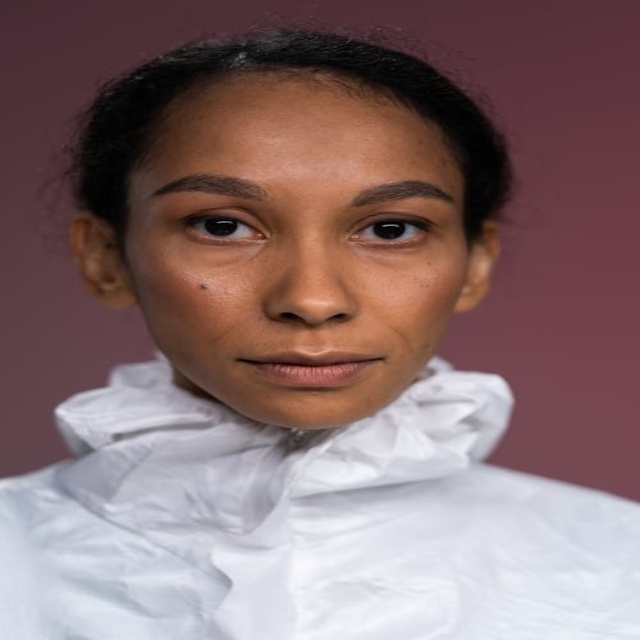Sin_gafas: (145, 164, 467, 266)
Sin_mascara: (220, 335, 398, 410)
